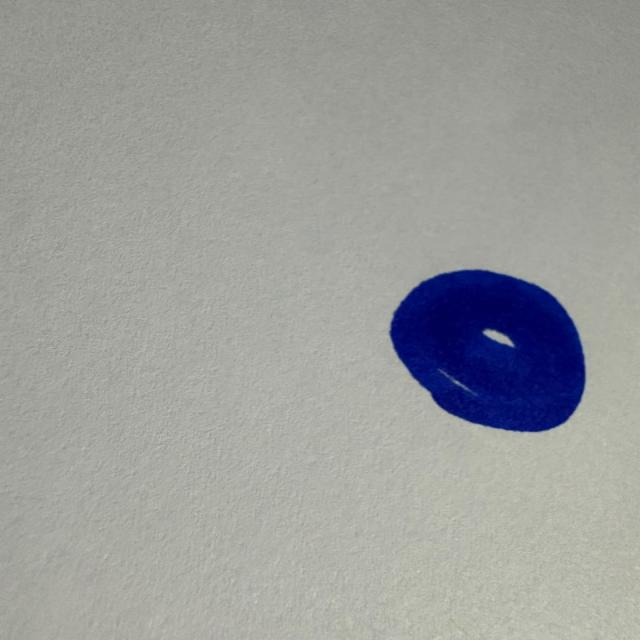Circle: (383, 265, 591, 437)
